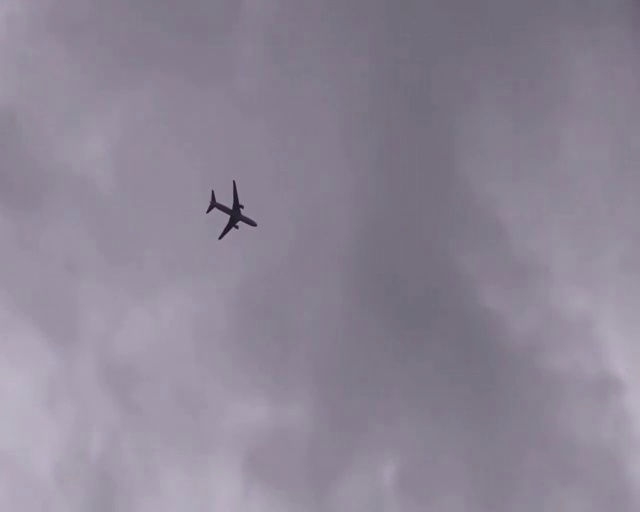AIRPLANE: (204, 179, 256, 240)
